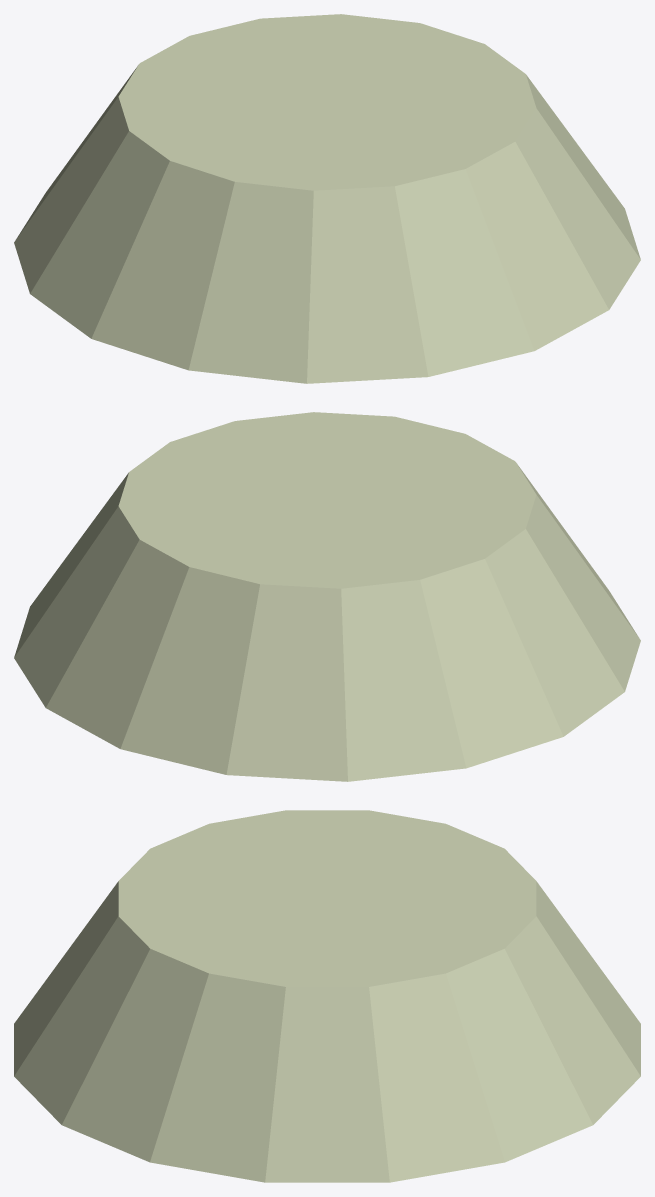
The model's file is tantares_adapter_s0p5_s0_1_collider.obj.
3 renders of one model, top to bottom at view 1: azimuth 30°, elevation 25°; view 2: azimuth 150°, elevation 25°; view 3: azimuth 270°, elevation 25°, orthographic.
Parts seen in each view (by area): view 1: coll; view 2: coll; view 3: coll.
Part boxes in pixels (<box>): coll: <box>14,14,640,383</box>; coll: <box>14,412,640,781</box>; coll: <box>14,810,640,1182</box>.
Size of the model in its own units: 0.9375 by 0.25 by 0.9375.
